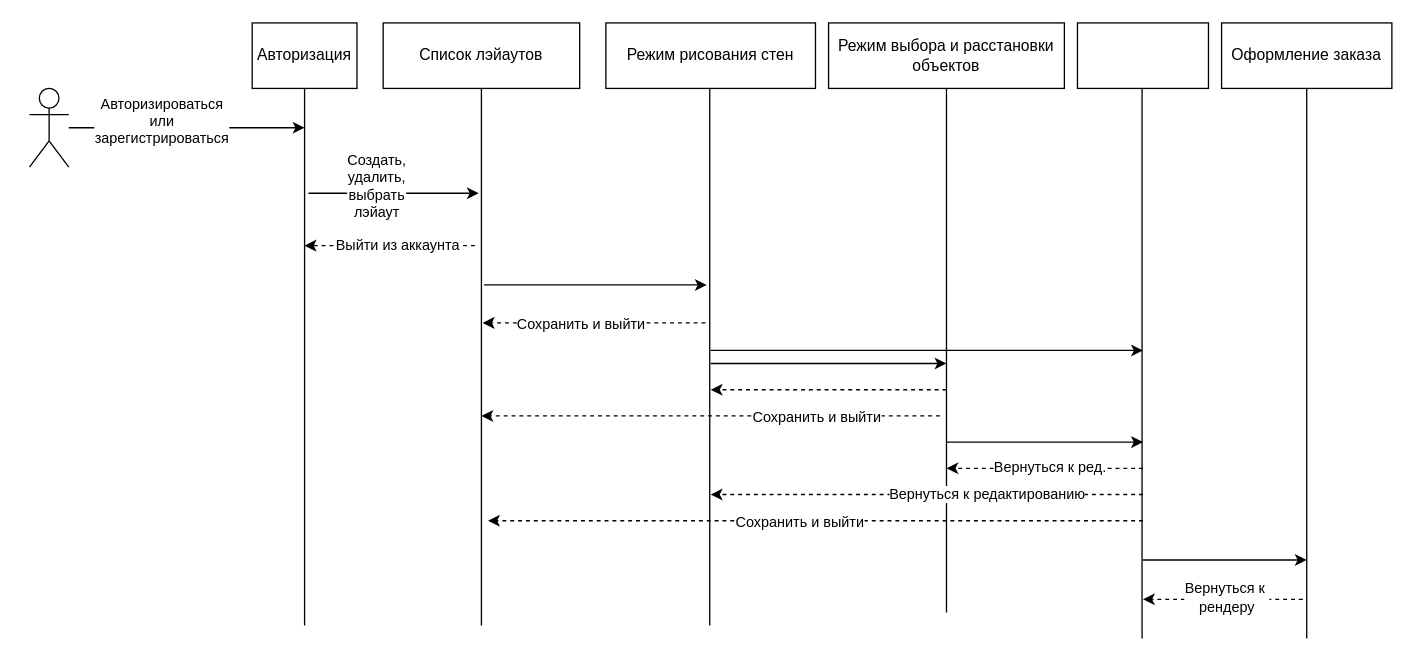
This 1415x663 diagram has some shape labels left out. The shapes that lost their labels are listed below. From the top down, each one's box as (x1, y1, x2, y2) in pixels, then its label:
(1076, 22, 1208, 88): Просмотр рендера сцены
(28, 87, 69, 167): Клиент
